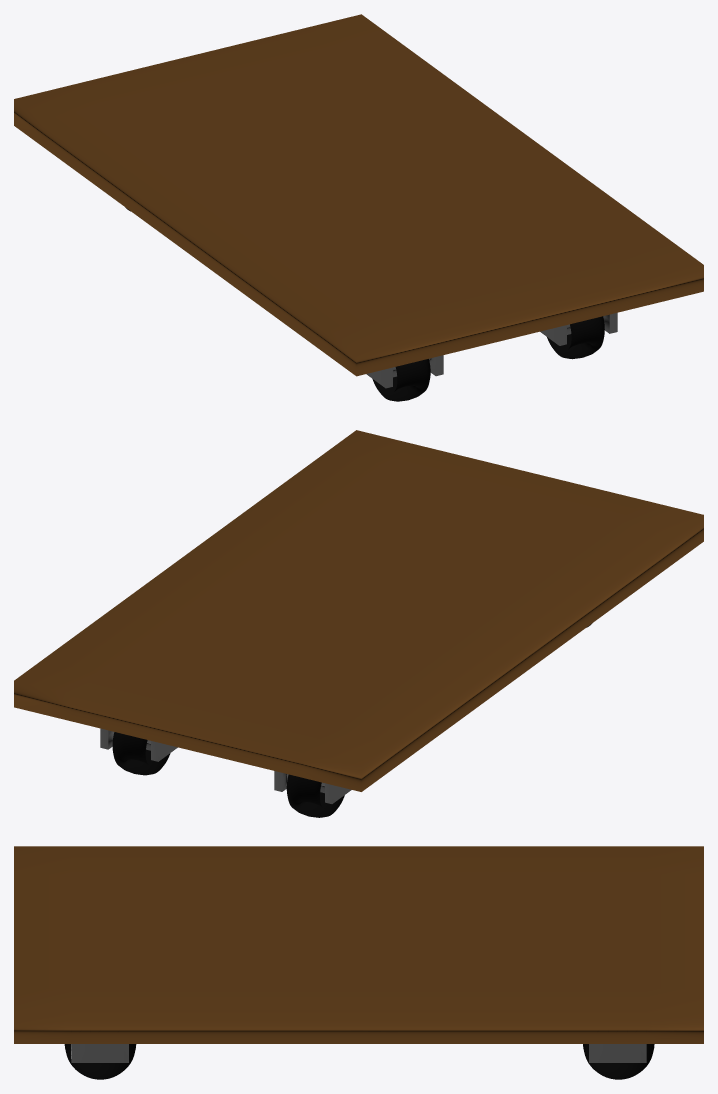
The model's file is TreeBoard.fbx.
The picture shows the model from 3 angles, top to bottom: view 1: azimuth 30°, elevation 25°; view 2: azimuth 150°, elevation 25°; view 3: azimuth 270°, elevation 25°; orthographic projection.
Parts seen in each view (by area): view 1: Cube; view 2: Cube; view 3: Cube.
Part boxes in pixels (box(x1,y1,x2,y2)): Cube: box(14, 14, 703, 401); Cube: box(14, 430, 703, 817); Cube: box(14, 846, 703, 1079).
Bounding box in the file's own units: 457 × 127 × 779.
